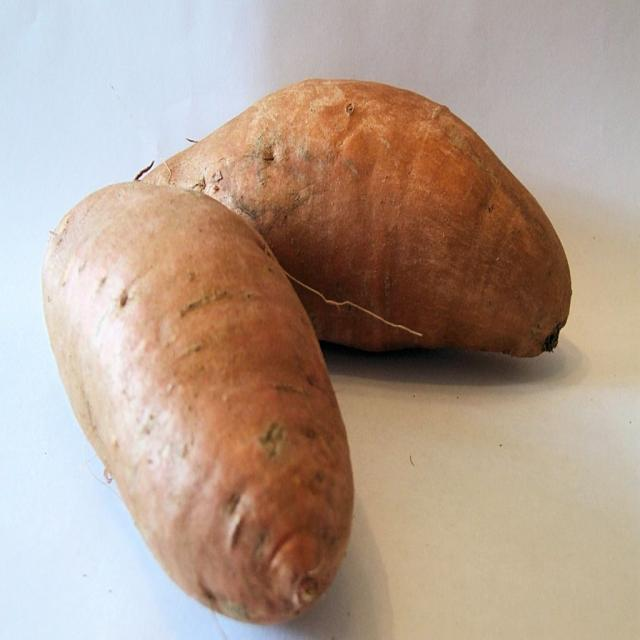sweet potato: (42, 182, 354, 623), (144, 80, 571, 357)
